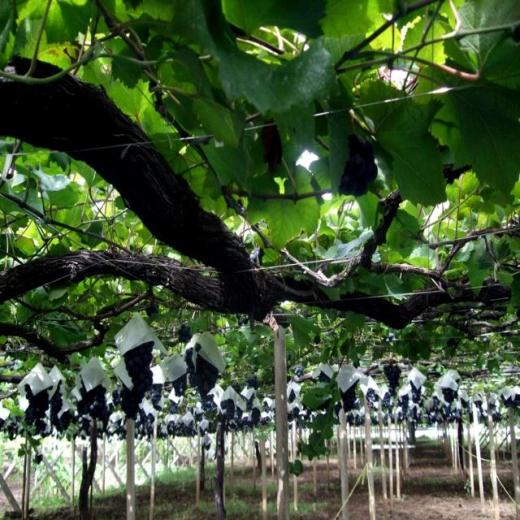Orange: (0, 409, 275, 438), (288, 394, 504, 426), (122, 341, 152, 389), (187, 345, 218, 388), (78, 376, 110, 415), (28, 384, 49, 418), (382, 366, 404, 393), (342, 380, 358, 410), (52, 381, 66, 410), (59, 408, 74, 431), (201, 394, 217, 412), (221, 397, 235, 417), (410, 380, 421, 403), (172, 376, 186, 394), (152, 382, 163, 403), (365, 388, 375, 411), (502, 394, 520, 406), (252, 407, 262, 427), (444, 388, 456, 404), (244, 394, 255, 410), (382, 394, 390, 406), (170, 399, 178, 410)
